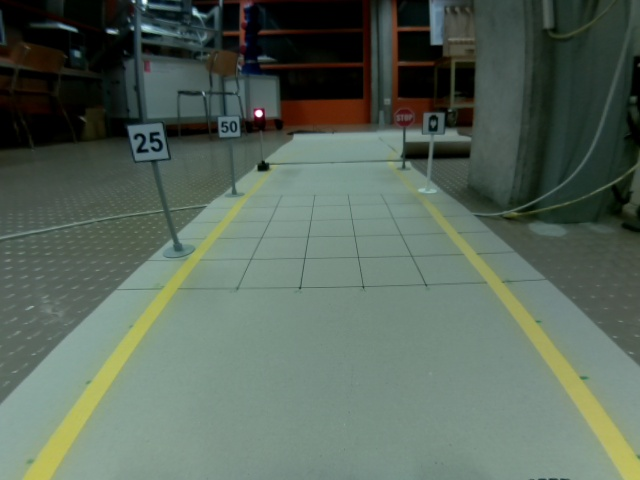battery: (421, 111, 446, 135)
speed25: (124, 121, 173, 163)
speed50: (215, 114, 242, 139)
stop: (394, 107, 416, 128)
traffic light: (252, 106, 267, 130)
